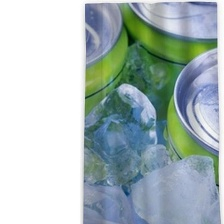can: (158, 41, 224, 189), (107, 1, 218, 74), (83, 0, 128, 120)
